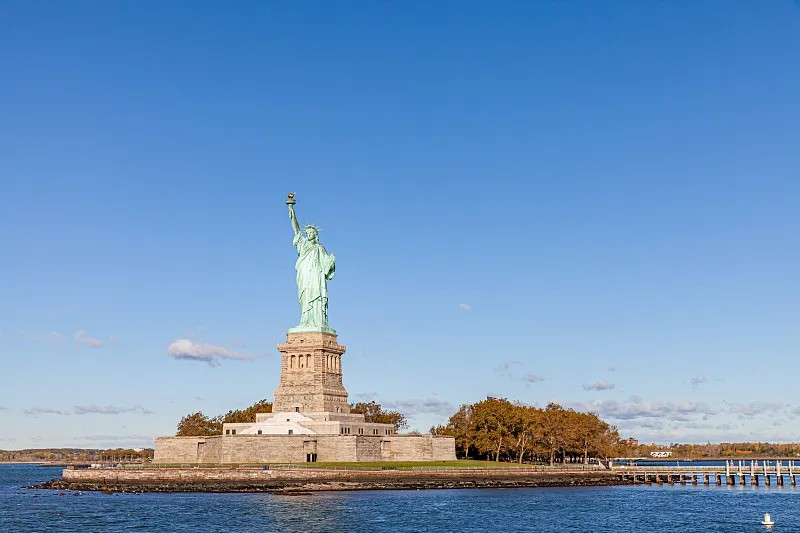SL: (271, 192, 351, 413)
